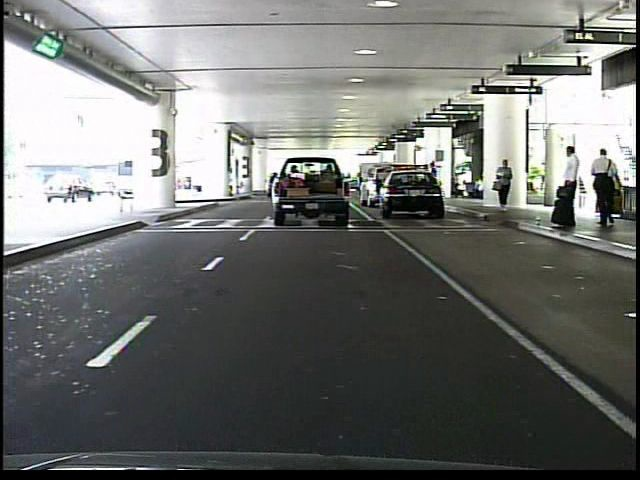person: (551, 142, 583, 232), (590, 145, 623, 230), (494, 152, 519, 216), (428, 159, 443, 203)
